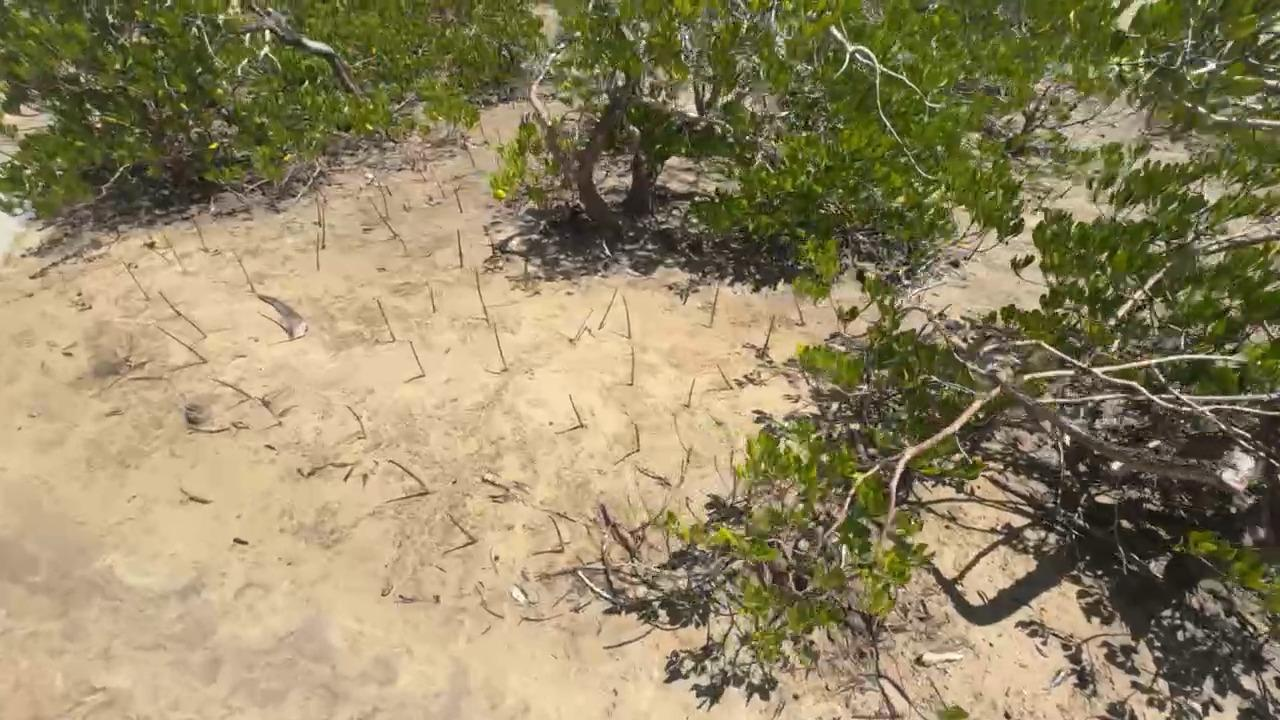Tree: (157, 326, 208, 363), (387, 459, 431, 494), (368, 197, 400, 240), (170, 305, 207, 338), (122, 261, 151, 301), (209, 376, 253, 399), (446, 511, 478, 542), (373, 297, 395, 342), (257, 310, 294, 336), (598, 286, 618, 331), (569, 308, 593, 345), (234, 251, 255, 293), (254, 395, 283, 425), (164, 235, 186, 272), (493, 322, 508, 371), (476, 270, 489, 323), (548, 514, 565, 553), (157, 290, 182, 316), (760, 314, 775, 357), (345, 405, 365, 435), (409, 340, 425, 376), (569, 394, 584, 426), (190, 216, 204, 250), (717, 364, 735, 390), (681, 447, 693, 485), (622, 295, 632, 339), (709, 287, 719, 327), (463, 141, 476, 168), (453, 183, 464, 213), (379, 188, 389, 217), (456, 229, 463, 269), (794, 297, 804, 325), (427, 282, 436, 313), (687, 378, 696, 408), (321, 206, 326, 249), (315, 231, 320, 271), (634, 423, 640, 451), (316, 192, 321, 225), (631, 346, 635, 385)
